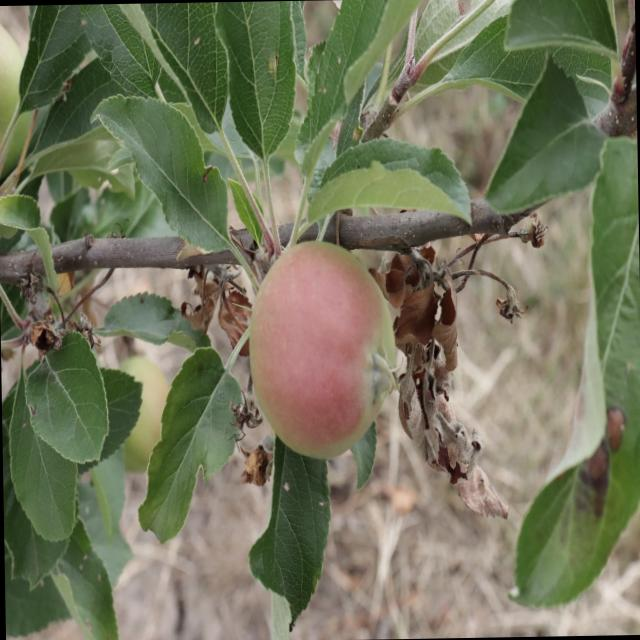-FireBlight-: (359, 250, 508, 518), (167, 258, 261, 356)
